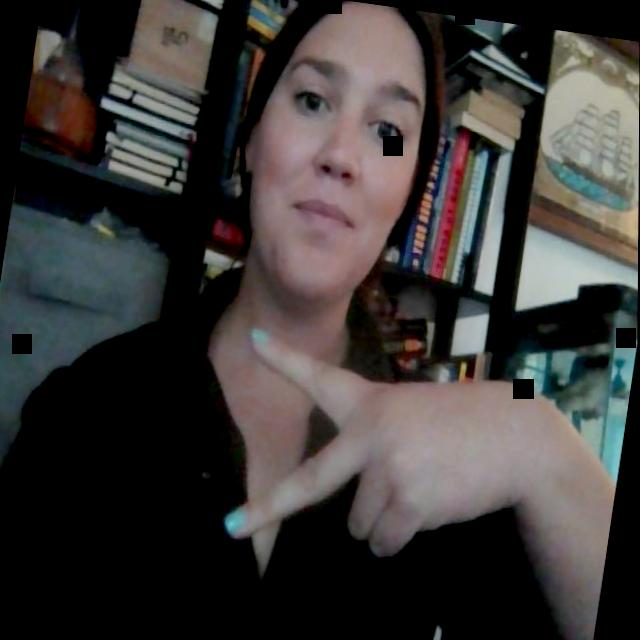Scissors: (224, 324, 570, 592)
